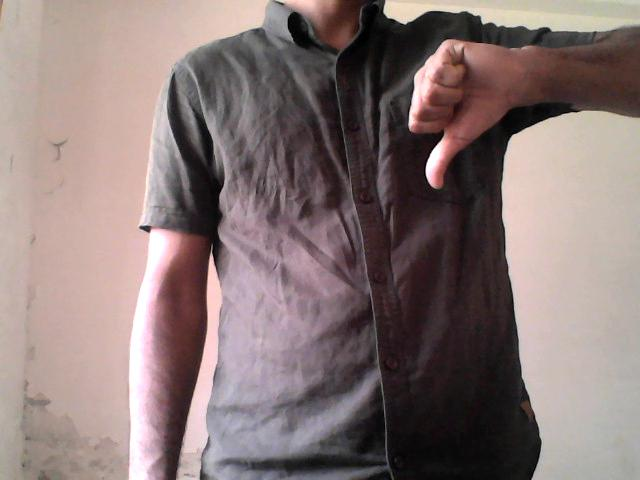thumbs-down: (377, 31, 543, 195)
